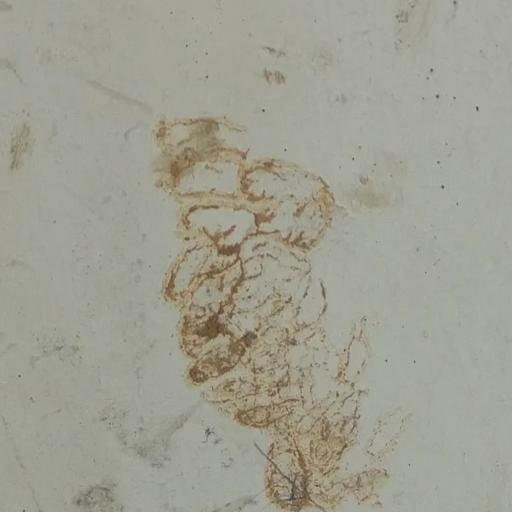stain: (137, 85, 447, 512)
